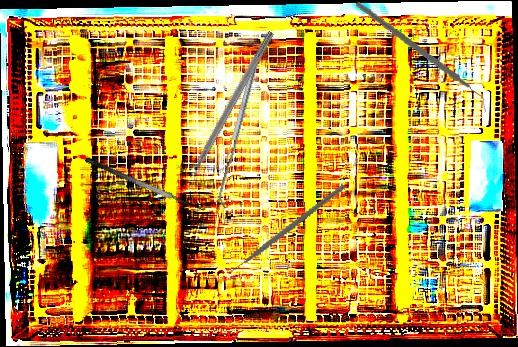Chopper: (220, 154, 346, 300), (347, 2, 495, 113)
Hook Surgical: (180, 29, 276, 189)
Spatula Surgical: (84, 146, 210, 218), (214, 54, 266, 208)
